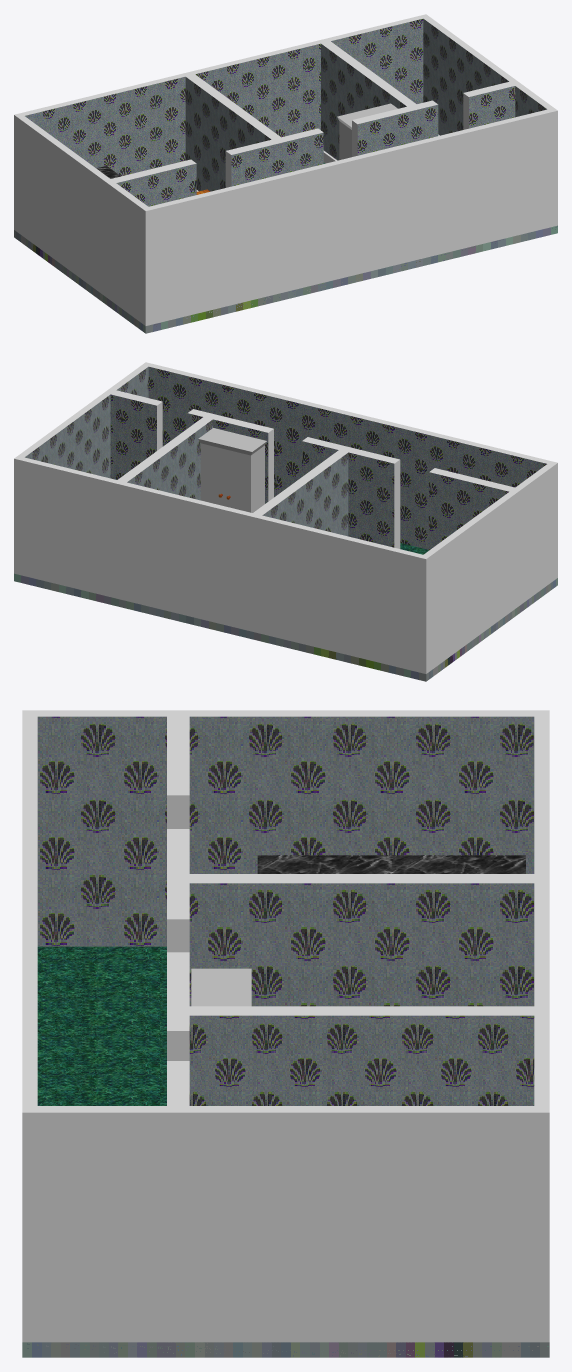
File: apartment.fbx
The picture shows the model from 3 angles, top to bottom: view 1: azimuth 30°, elevation 25°; view 2: azimuth 150°, elevation 25°; view 3: azimuth 270°, elevation 25°; orthographic projection. The views are drawn at different scales.
Visible parts, largest first — view 1: Apartment, Amoire; view 2: Apartment, Amoire; view 3: Apartment, Kitchen Counter, Amoire.
Boxes of the visible parts, box(x1,y1,x2,y2) form: Apartment: box(14, 14, 557, 333); Amoire: box(337, 103, 397, 159); Apartment: box(14, 362, 557, 681); Amoire: box(198, 428, 266, 512); Apartment: box(22, 710, 549, 1357); Kitchen Counter: box(257, 855, 525, 873); Amoire: box(191, 968, 251, 1006).
Size of the model in its own units: 2130 by 605 by 1179.
